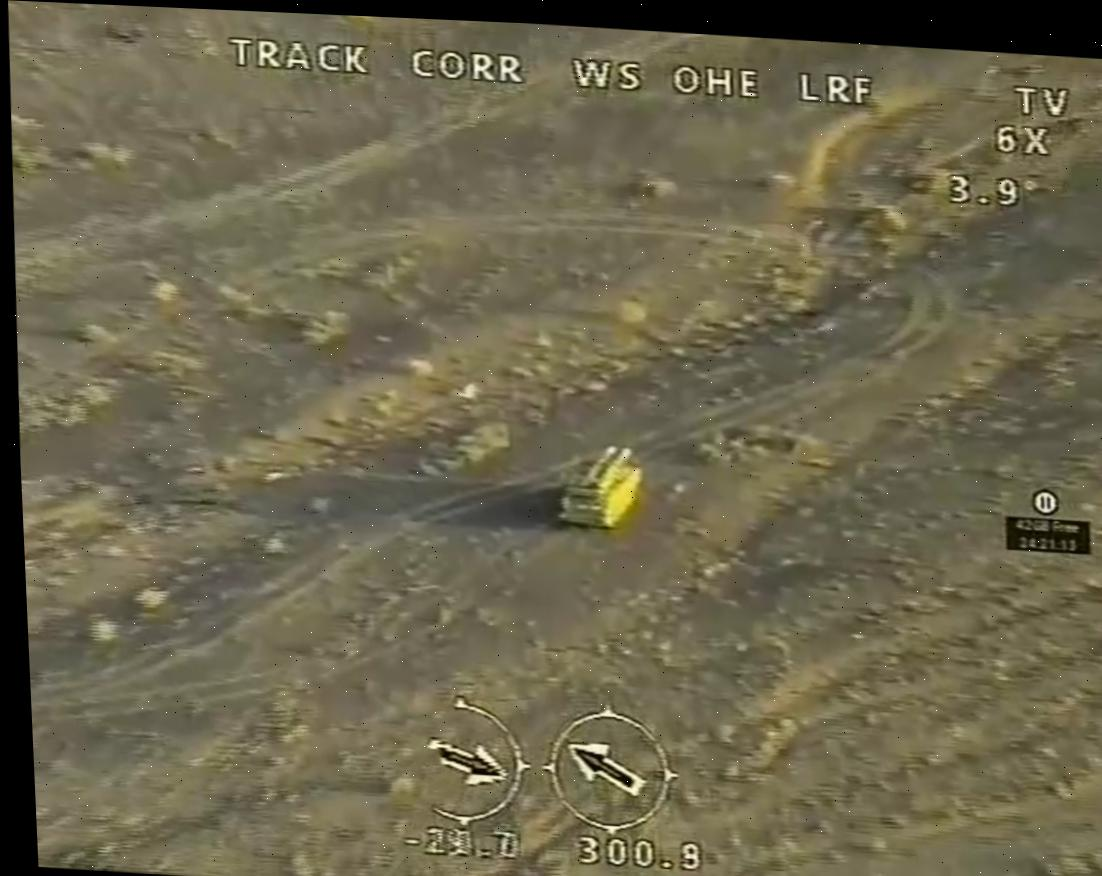armored_car: (552, 436, 649, 535)
